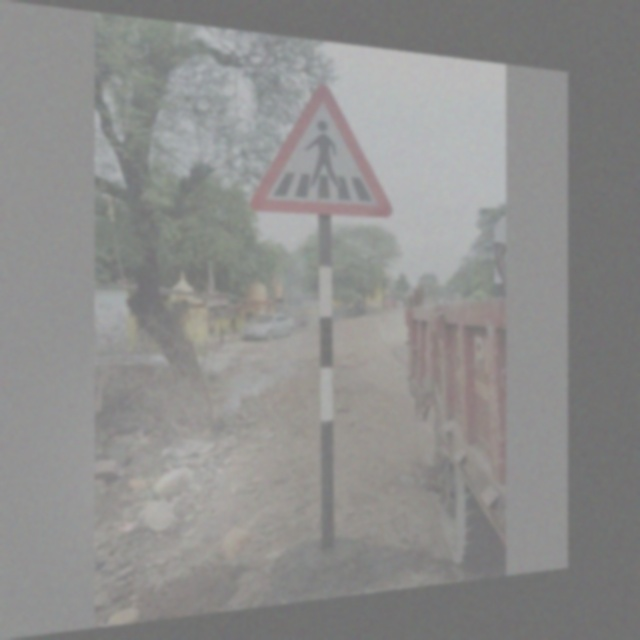Pedestrian_Crossing: (254, 66, 398, 220)
